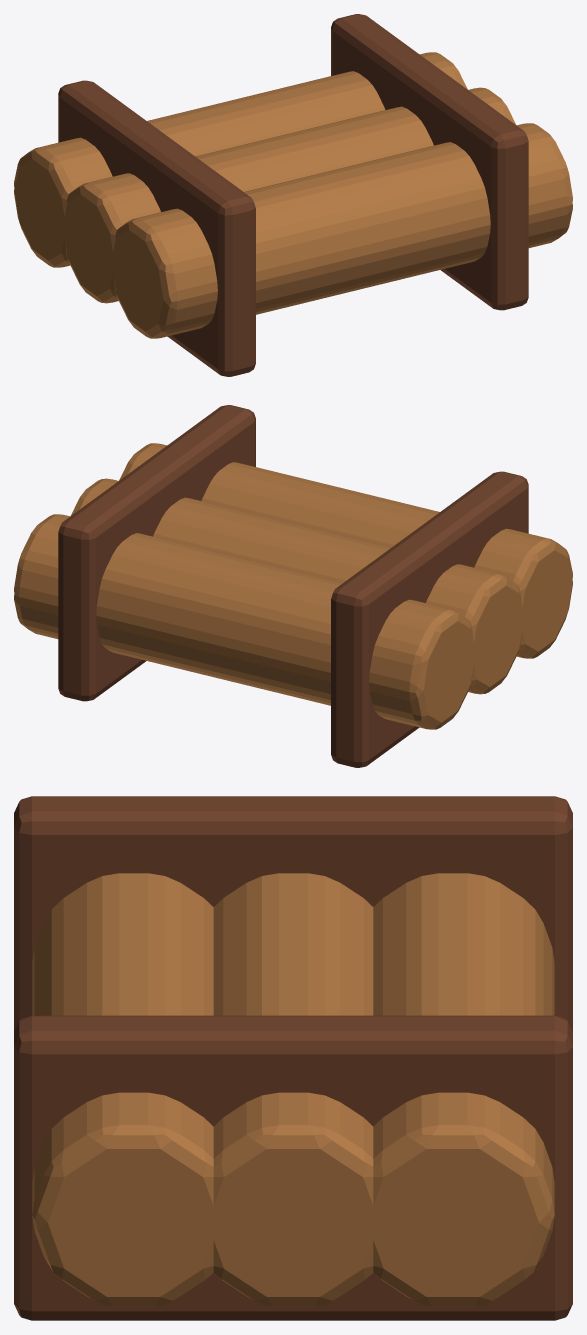
File: barrosan_worker_cargo_bundle.glb
3 renders of one model, top to bottom at view 1: azimuth 30°, elevation 25°; view 2: azimuth 150°, elevation 25°; view 3: azimuth 270°, elevation 25°, orthographic. The views are drawn at different scales.
Parts seen in each view (by area): view 1: CargoBundle_Log_00, CargoBundle_LeatherStrap_05, CargoBundle_LeatherStrap_00, CargoBundle_Log_02, CargoBundle_Log_01; view 2: CargoBundle_Log_02, CargoBundle_LeatherStrap_05, CargoBundle_LeatherStrap_00, CargoBundle_Log_00, CargoBundle_Log_01; view 3: CargoBundle_LeatherStrap_05, CargoBundle_Log_00, CargoBundle_Log_02, CargoBundle_LeatherStrap_00, CargoBundle_Log_01.
Part boxes in pixels (bbox=[...]): CargoBundle_Log_00: bbox=[111, 123, 572, 338]; CargoBundle_LeatherStrap_05: bbox=[331, 14, 528, 310]; CargoBundle_LeatherStrap_00: bbox=[58, 80, 255, 376]; CargoBundle_Log_02: bbox=[14, 52, 467, 267]; CargoBundle_Log_01: bbox=[63, 87, 515, 303]; CargoBundle_Log_02: bbox=[14, 514, 473, 729]; CargoBundle_LeatherStrap_05: bbox=[58, 405, 255, 701]; CargoBundle_LeatherStrap_00: bbox=[331, 471, 528, 767]; CargoBundle_Log_00: bbox=[119, 443, 572, 658]; CargoBundle_Log_01: bbox=[71, 478, 523, 694]; CargoBundle_LeatherStrap_05: bbox=[14, 1015, 572, 1320]; CargoBundle_Log_00: bbox=[32, 873, 219, 1306]; CargoBundle_Log_02: bbox=[367, 873, 554, 1306]; CargoBundle_LeatherStrap_00: bbox=[14, 796, 572, 1031]; CargoBundle_Log_01: bbox=[207, 873, 379, 1306].
Size of the model in its own units: 0.78 by 0.32 by 0.56.
